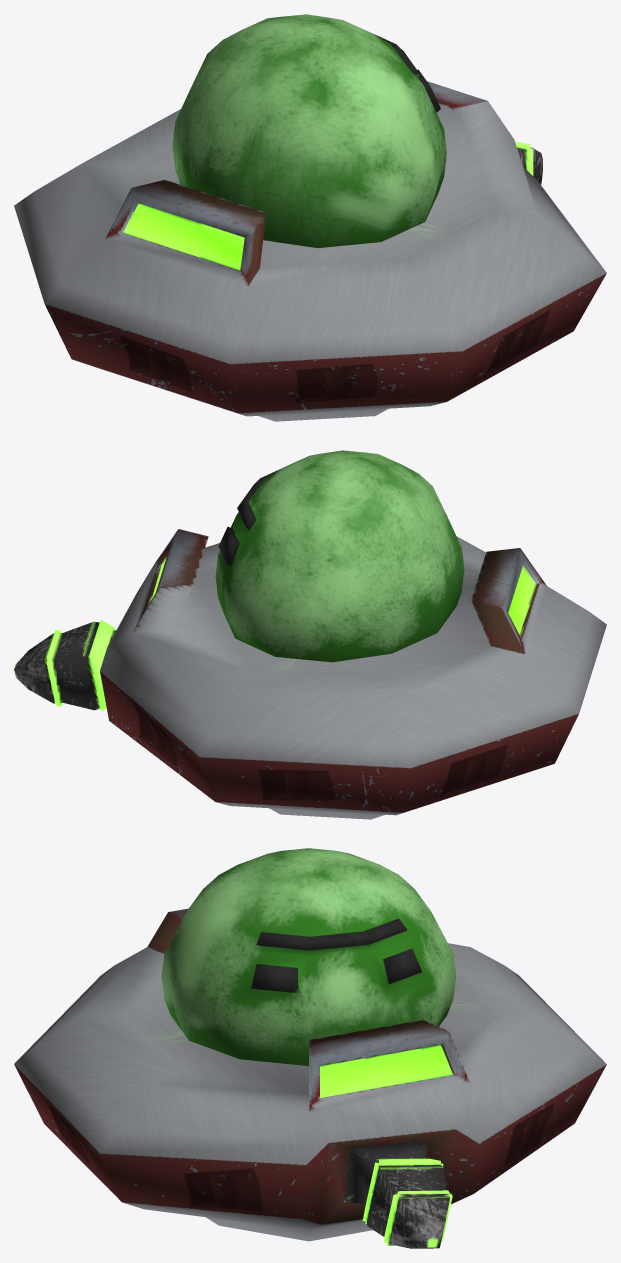
Rendered from IEPROJ3 Common Slime Enemy.fbx.
3 renders of one model, top to bottom at view 1: azimuth 30°, elevation 25°; view 2: azimuth 150°, elevation 25°; view 3: azimuth 270°, elevation 25°, orthographic. The views are drawn at different scales.
Visible parts, largest first — view 1: Sphere; view 2: Sphere; view 3: Sphere.
Part boxes in pixels (x1=…): Sphere: x1=14, y1=14, x2=606, y2=421; Sphere: x1=14, y1=450, x2=606, y2=819; Sphere: x1=14, y1=848, x2=606, y2=1248.
Bounding box in the file's own units: 110 × 63.82 × 105.
1 material, 1 textured.
